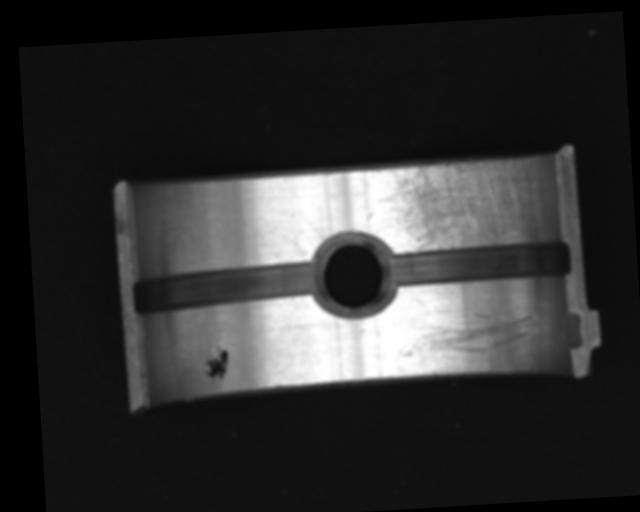blot: (201, 345, 230, 383)
gap: (126, 260, 323, 318), (385, 240, 573, 289)
hole: (311, 234, 397, 314)
nick: (397, 308, 536, 361), (298, 208, 327, 245)
scratch: (371, 155, 550, 255)
